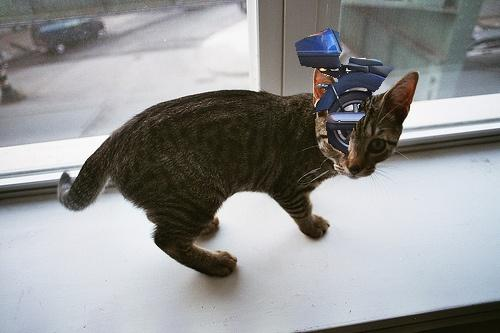tampered: (296, 29, 394, 155)
